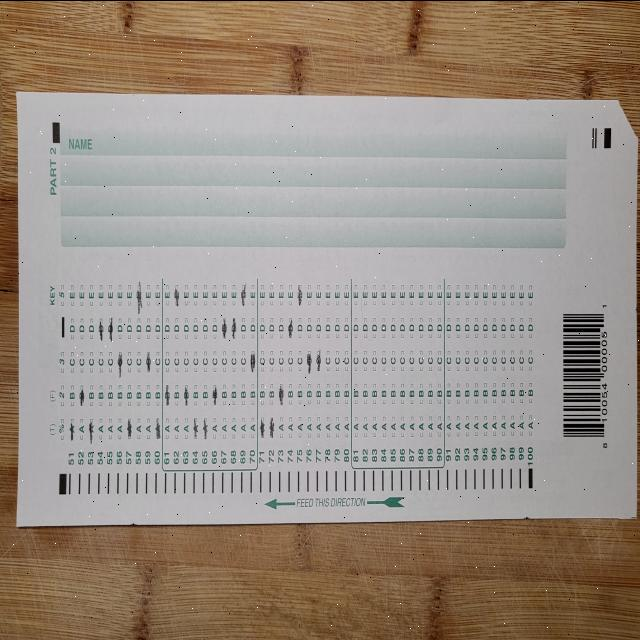scantron_back: (14, 89, 638, 525)
